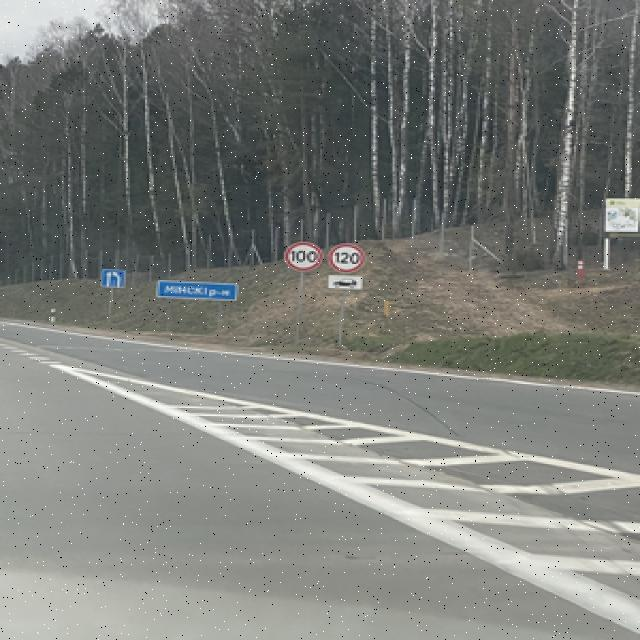Speedlimit: (278, 240, 321, 272), (325, 241, 367, 273)
